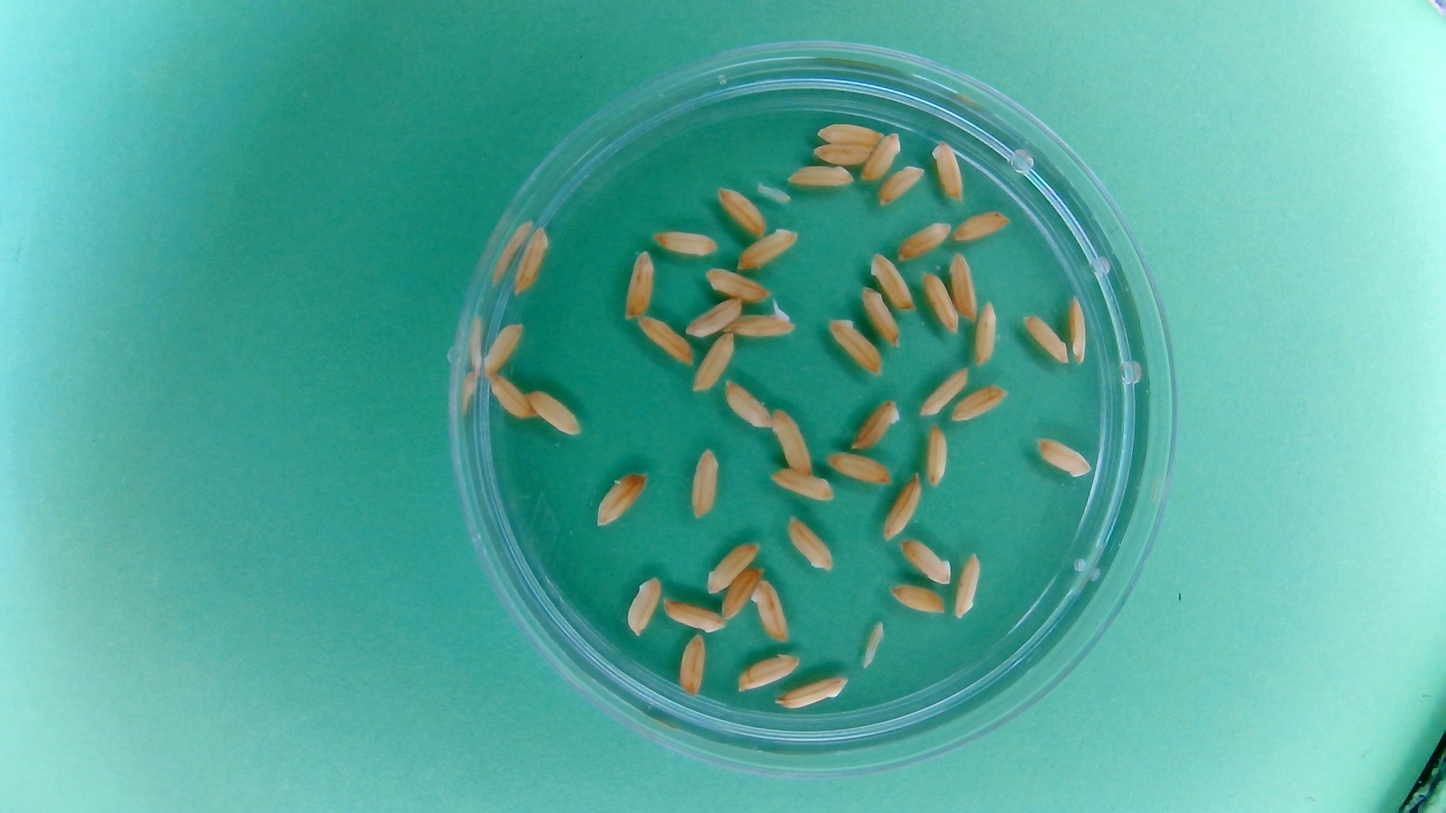no: (825, 315, 883, 378), (734, 225, 802, 273), (594, 470, 649, 528), (703, 539, 760, 594), (770, 406, 815, 475), (868, 249, 917, 312), (635, 314, 694, 366), (785, 513, 836, 573), (880, 470, 923, 541), (690, 330, 737, 394), (715, 184, 769, 239), (917, 364, 971, 418), (749, 577, 791, 646), (898, 536, 954, 587), (850, 396, 901, 452), (525, 387, 582, 437), (736, 651, 802, 694), (774, 674, 850, 711), (511, 225, 551, 295), (682, 296, 745, 340), (1019, 312, 1069, 367), (723, 376, 773, 431), (856, 286, 904, 343), (824, 449, 895, 487), (480, 320, 526, 378), (948, 382, 1010, 425), (920, 268, 961, 333), (767, 466, 837, 504), (703, 265, 773, 303), (621, 248, 657, 321), (896, 218, 953, 263), (1034, 435, 1092, 479), (486, 372, 535, 423), (860, 129, 904, 184), (688, 446, 721, 519), (720, 565, 763, 621), (624, 574, 662, 637), (661, 597, 726, 633), (946, 250, 978, 323), (929, 138, 965, 202), (950, 208, 1012, 245), (649, 226, 720, 258), (877, 163, 926, 209), (676, 632, 708, 698), (887, 582, 947, 617), (953, 551, 982, 620), (785, 162, 856, 190), (816, 120, 886, 148), (972, 298, 1000, 367), (923, 421, 951, 489), (1064, 294, 1089, 366), (809, 141, 877, 167)
yes: (728, 303, 795, 339)
